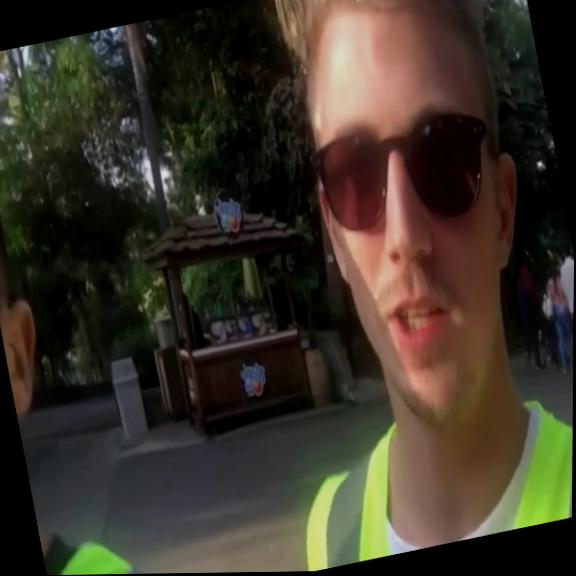safety_vest: (281, 382, 573, 572), (41, 514, 208, 575)
